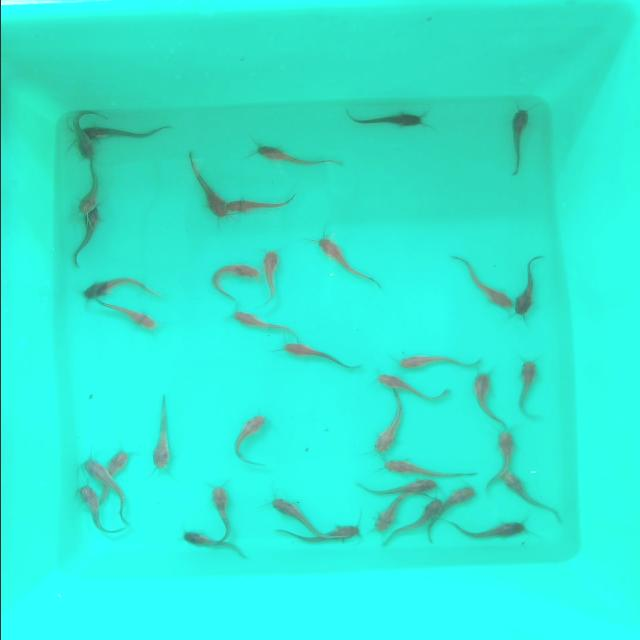lele: (314, 240, 382, 292), (450, 253, 508, 313), (503, 472, 565, 526), (181, 152, 226, 219), (276, 522, 364, 553), (372, 454, 473, 481), (179, 530, 249, 568), (391, 344, 478, 374), (272, 342, 354, 372), (68, 489, 110, 547), (252, 144, 338, 172), (66, 208, 102, 270), (86, 302, 160, 332), (222, 185, 296, 215), (368, 406, 414, 454), (516, 248, 542, 326), (502, 111, 530, 182), (226, 308, 294, 336), (372, 376, 448, 401), (83, 120, 173, 141), (508, 358, 538, 421), (148, 395, 172, 472), (345, 109, 421, 133), (456, 522, 534, 544), (234, 414, 264, 470), (66, 104, 94, 163), (212, 264, 260, 298), (469, 372, 499, 426), (80, 278, 160, 298), (360, 498, 402, 536), (436, 484, 480, 520), (264, 498, 314, 528), (207, 482, 231, 536), (356, 479, 436, 495), (491, 433, 517, 481), (400, 502, 438, 534), (72, 164, 95, 212), (263, 250, 279, 306), (105, 448, 128, 484), (85, 459, 111, 490)
